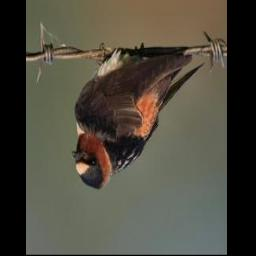Swallow: (71, 43, 206, 193)
